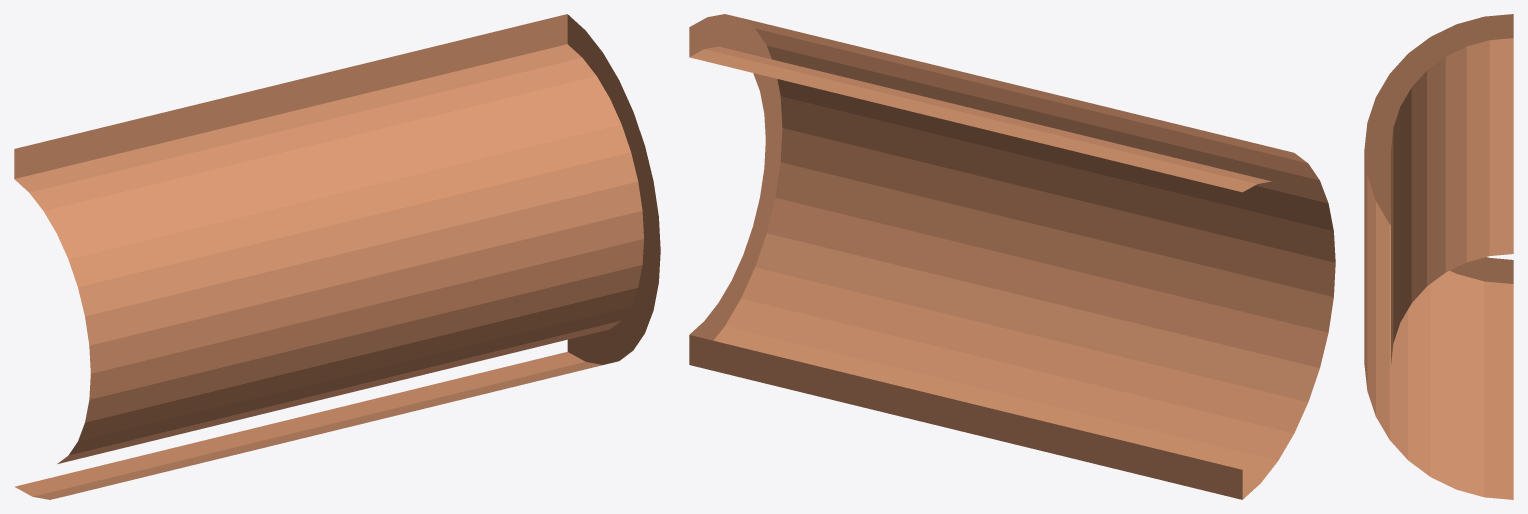
The model's file is telha_original.glb.
3 views of the same model, side by side, from view 1: azimuth 30°, elevation 25°; view 2: azimuth 150°, elevation 25°; view 3: azimuth 270°, elevation 25° (orthographic). The views are drawn at different scales.
Visible parts, largest first — view 1: world; view 2: world; view 3: world.
Boxes of the visible parts, box(x1,y1,x2,y2) form: world: box(14, 14, 660, 499); world: box(689, 14, 1335, 499); world: box(1364, 14, 1513, 499).
Size of the model in its own units: 0.48 by 0.28 by 0.14.
